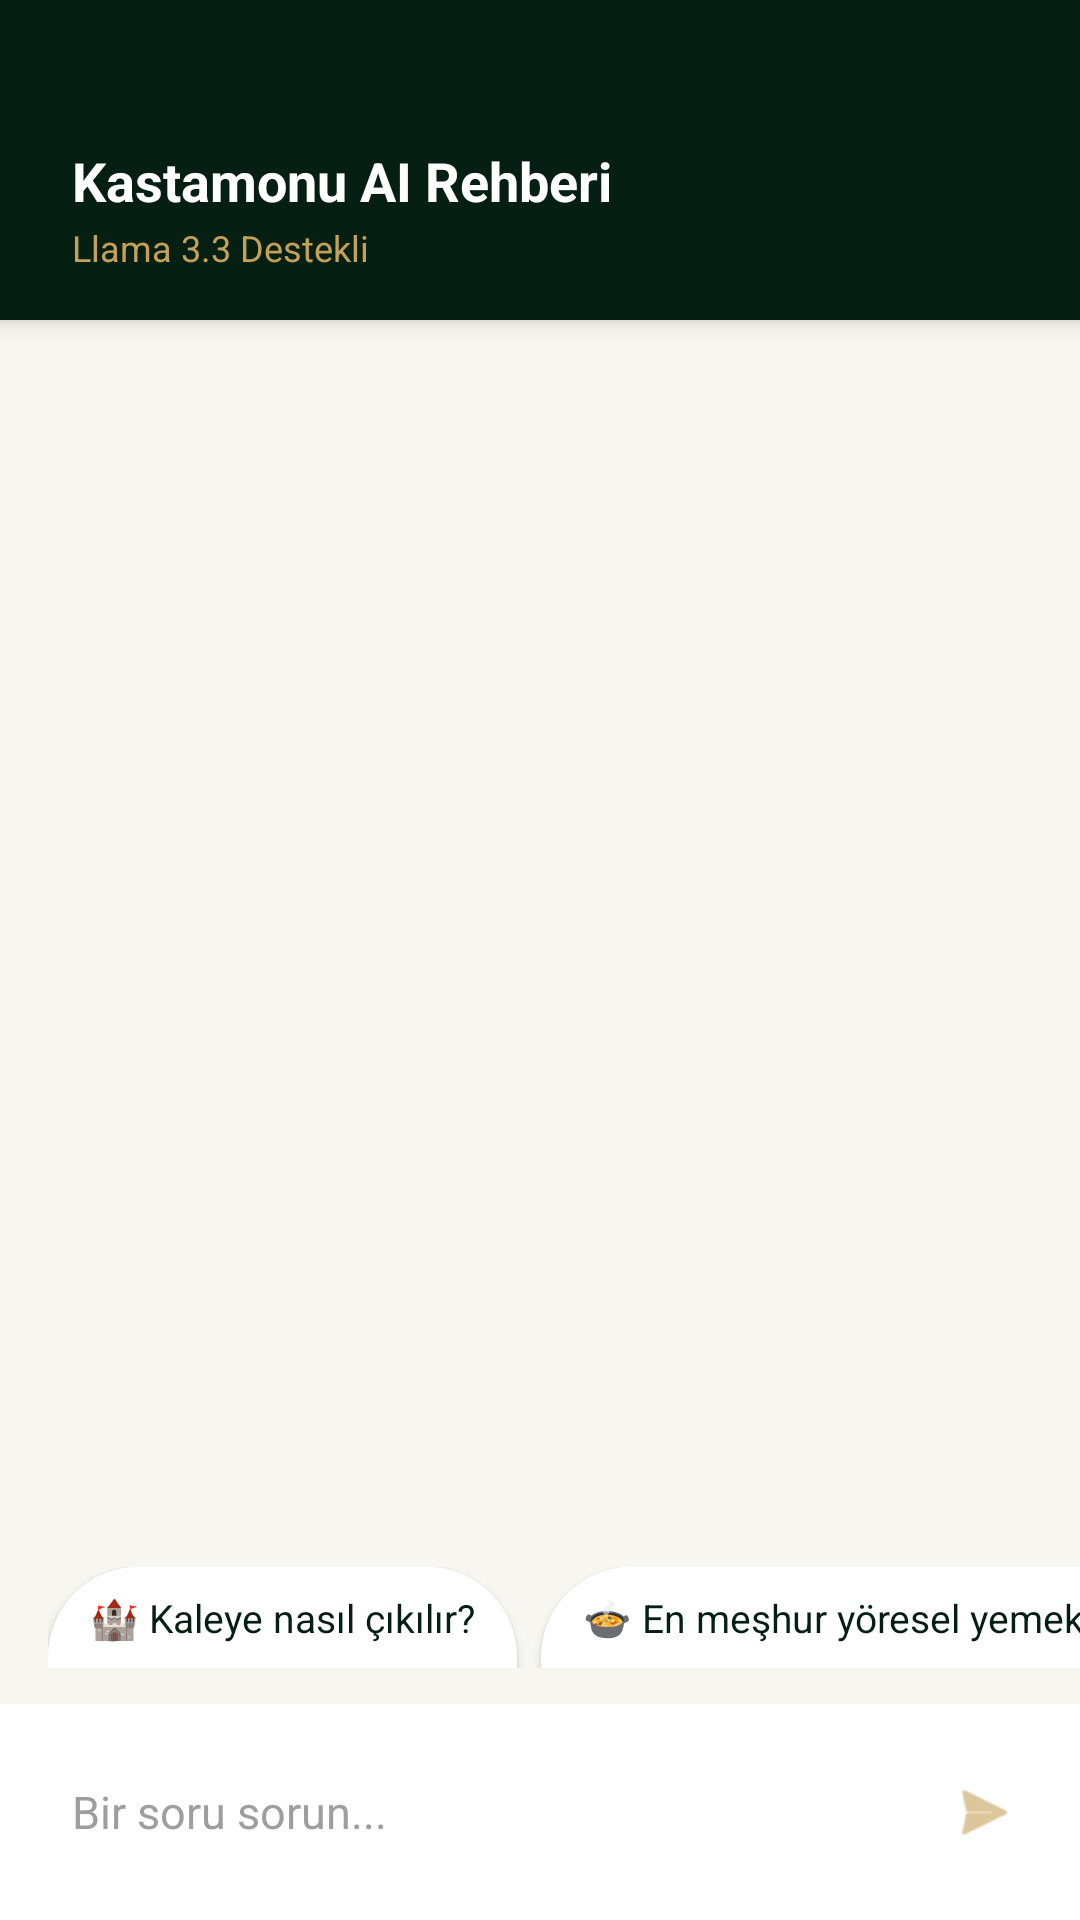

Icons on this 1080px×1920px Android screen, each with the point to tap as point (x, y):
Send: point (985, 1812)
